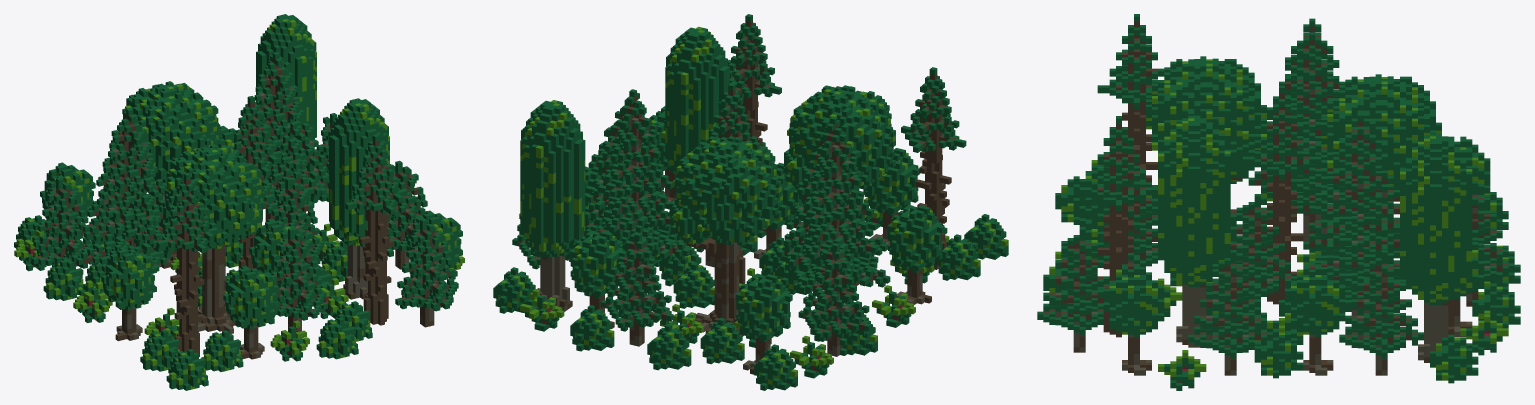
Rendered from trees_6_overtile.obj.
3 renders of one model, left to right at view 1: azimuth 30°, elevation 25°; view 2: azimuth 150°, elevation 25°; view 3: azimuth 270°, elevation 25°, orthographic. The views are drawn at different scales.
Size of the model in its own units: 7.6 by 4 by 8.
1 material, 1 textured.
